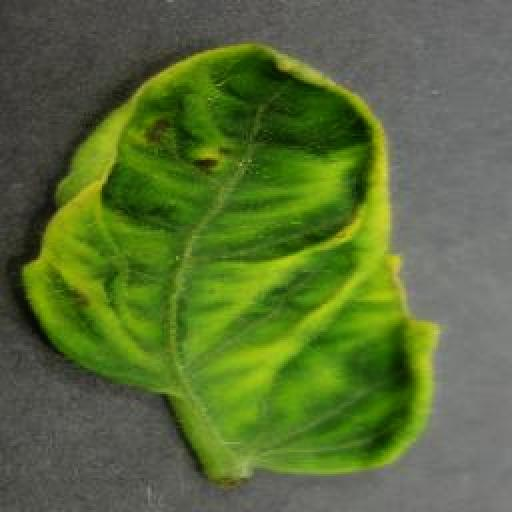disease_tomato: (18, 40, 440, 482)
